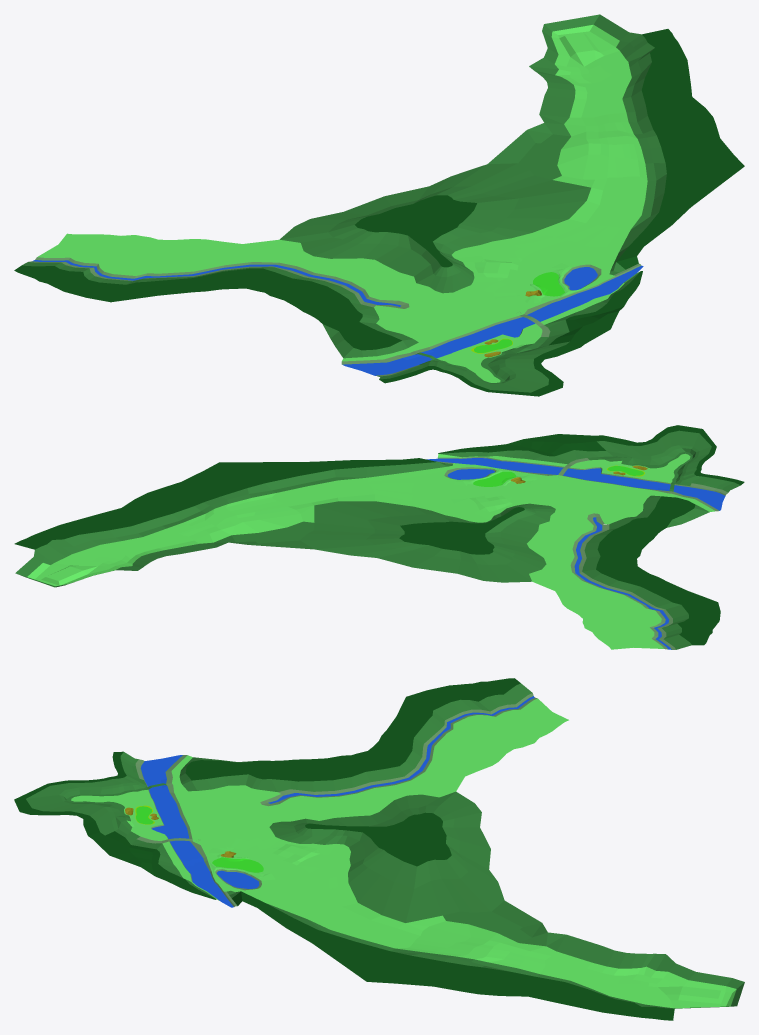
The model's file is Masters_Course_test.glb.
3 renders of one model, top to bottom at view 1: azimuth 30°, elevation 25°; view 2: azimuth 150°, elevation 25°; view 3: azimuth 270°, elevation 25°, orthographic. The views are drawn at different scales.
Parts seen in each view (by area): view 1: Course; view 2: Course; view 3: Course.
Part boxes in pixels (x1,y1,x2,y2): Course: (14,14,744,396); Course: (14,425,744,649); Course: (14,678,744,1020).
Size of the model in its own units: 488 by 8.53 by 439.
